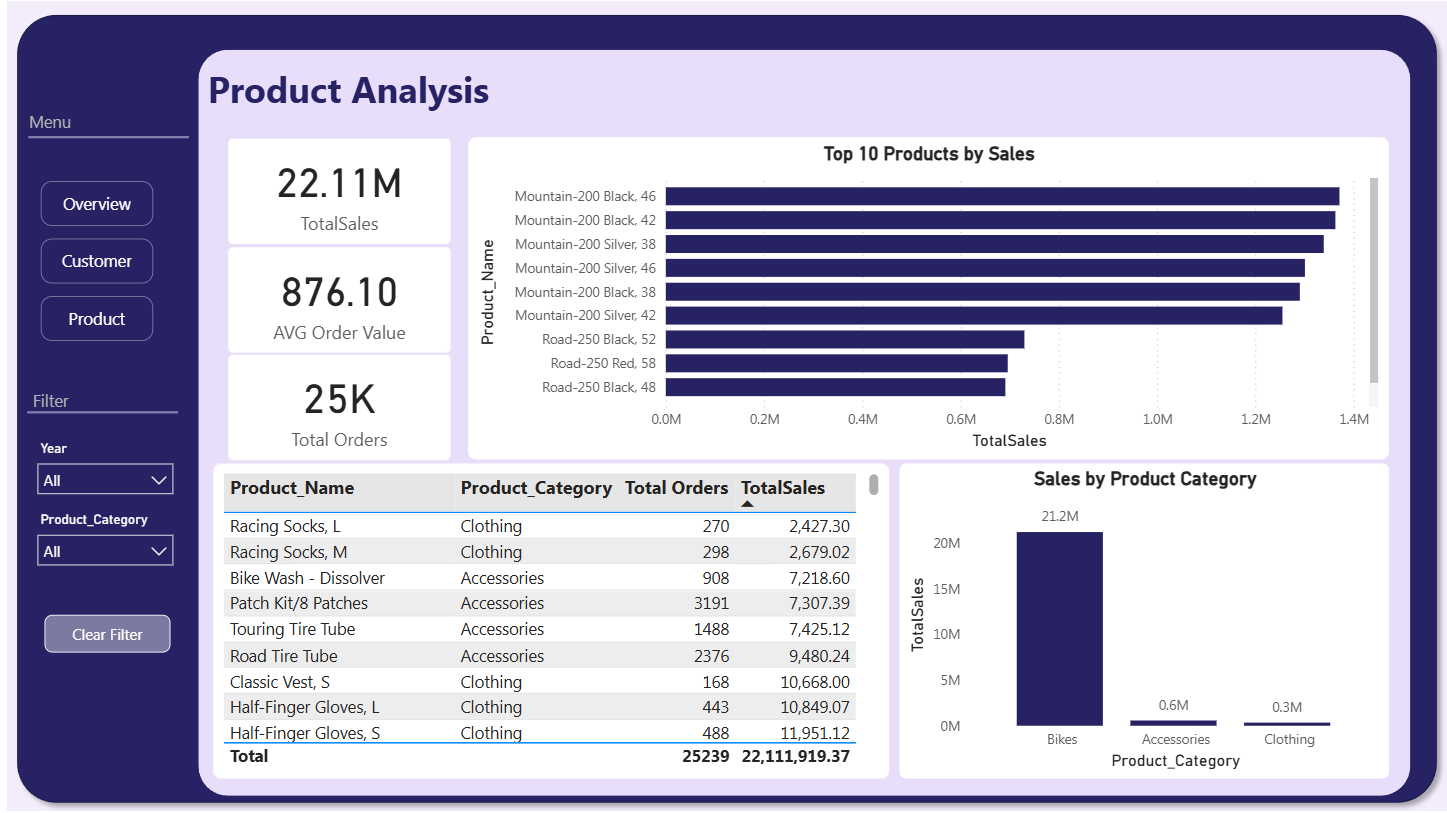

Layout of this report page (visuals, bound fields, positions):
{"tool":"powerbi","page":{"name":"Product Analysis","canvas":[1280,720],"ordinal":2},"visuals":[{"type":"group","id":"g1","title":"Group 3","box":[0,3.2,1280,718.3],"z":1000},{"type":"shape","box":[0,3.2,1280,718.3],"z":1000,"group":"g2"},{"type":"shape","box":[170.2,43.5,1077.4,663.1],"z":1500,"group":"g2"},{"type":"card","fields":{"Values":["FACT_InternetSales.TotalSales"]},"box":[196.2,122.4,197.6,93.2],"z":2000},{"type":"clusteredBarChart","title":"Top 10 Products by Sales","fields":{"Y":["FACT_InternetSales.TotalSales"],"Category":["DIM_Product.Product_Name"]},"box":[410.4,121,818.1,286.6],"z":3000},{"type":"clusteredColumnChart","title":"Sales by Product Category","fields":{"Category":["DIM_Product.Product_Category"],"Y":["FACT_InternetSales.TotalSales"]},"box":[793.8,411.4,435.5,279.9],"z":4000},{"type":"tableEx","fields":{"Values":["DIM_Product.Product_Name","DIM_Product.Product_Category","FACT_InternetSales.Total Orders","FACT_InternetSales.TotalSales"]},"box":[183.4,411.4,600.8,279.9],"z":5000},{"type":"card","fields":{"Values":["FACT_InternetSales.AVG Order Value"]},"box":[196.2,218.4,197.6,93.2],"z":6000},{"type":"slicer","fields":{"Values":["DIM_Calendar.Year"]},"box":[16.9,385.5,141,59],"z":7000},{"type":"slicer","fields":{"Values":["DIM_Product.Product_Category"]},"box":[16.9,449.4,141,60.2],"z":8000},{"type":"group","id":"g2","title":"Group 1","box":[0,3.2,1280,718.3],"z":8002,"group":"g1"},{"type":"textbox","box":[173.8,51.2,378.6,100],"z":9000},{"type":"actionButton","box":[33.9,545.3,112.2,33.8],"z":10000},{"type":"group","id":"g3","title":"Group 4","box":[14.5,91.8,147.1,55.7],"z":12000},{"type":"actionButton","box":[30.1,160.4,100,40],"z":12000},{"type":"actionButton","box":[30.2,211.2,100.1,39.8],"z":13000},{"type":"group","id":"g4","title":"Group 1","box":[18.1,328.9,280.7,73.5],"z":13000},{"type":"card","fields":{"Values":["FACT_InternetSales.Total Orders"]},"box":[196.2,314.4,197.6,93.2],"z":13500},{"type":"actionButton","box":[30.2,261.9,100.1,39.8],"z":14000},{"type":"textbox","box":[14.5,91.8,107.1,55.7],"z":17000,"group":"g3"},{"type":"shape","box":[18.8,98.9,142.9,44.3],"z":18000,"group":"g3"},{"type":"shape","box":[18.1,328.9,134.2,73.5],"z":19000,"group":"g4"},{"type":"textbox","box":[18.1,339.9,280.7,50.5],"z":20000,"group":"g4"}]}

Visuals, with their boxes on the page's 1280x720 design canvas (x1, y1, x2, y2). These are canvas units, not pixel positions in the 1447x813 screenshot, which may show the page scaled, cropped or inside an application window:
"Group 3" group: box=[0, 3, 1280, 722]
shape: box=[0, 3, 1280, 722]
shape: box=[170, 44, 1248, 707]
card - FACT_InternetSales.TotalSales: box=[196, 122, 394, 216]
"Top 10 Products by Sales" clusteredBarChart: box=[410, 121, 1228, 408]
"Sales by Product Category" clusteredColumnChart: box=[794, 411, 1229, 691]
tableEx - DIM_Product.Product_Name x DIM_Product.Product_Category: box=[183, 411, 784, 691]
card - FACT_InternetSales.AVG Order Value: box=[196, 218, 394, 312]
slicer - DIM_Calendar.Year: box=[17, 386, 158, 444]
slicer - DIM_Product.Product_Category: box=[17, 449, 158, 510]
"Group 1" group: box=[0, 3, 1280, 722]
textbox: box=[174, 51, 552, 151]
actionButton: box=[34, 545, 146, 579]
"Group 4" group: box=[14, 92, 162, 148]
actionButton: box=[30, 160, 130, 200]
actionButton: box=[30, 211, 130, 251]
"Group 1" group: box=[18, 329, 299, 402]
card - FACT_InternetSales.Total Orders: box=[196, 314, 394, 408]
actionButton: box=[30, 262, 130, 302]
textbox: box=[14, 92, 122, 148]
shape: box=[19, 99, 162, 143]
shape: box=[18, 329, 152, 402]
textbox: box=[18, 340, 299, 390]
